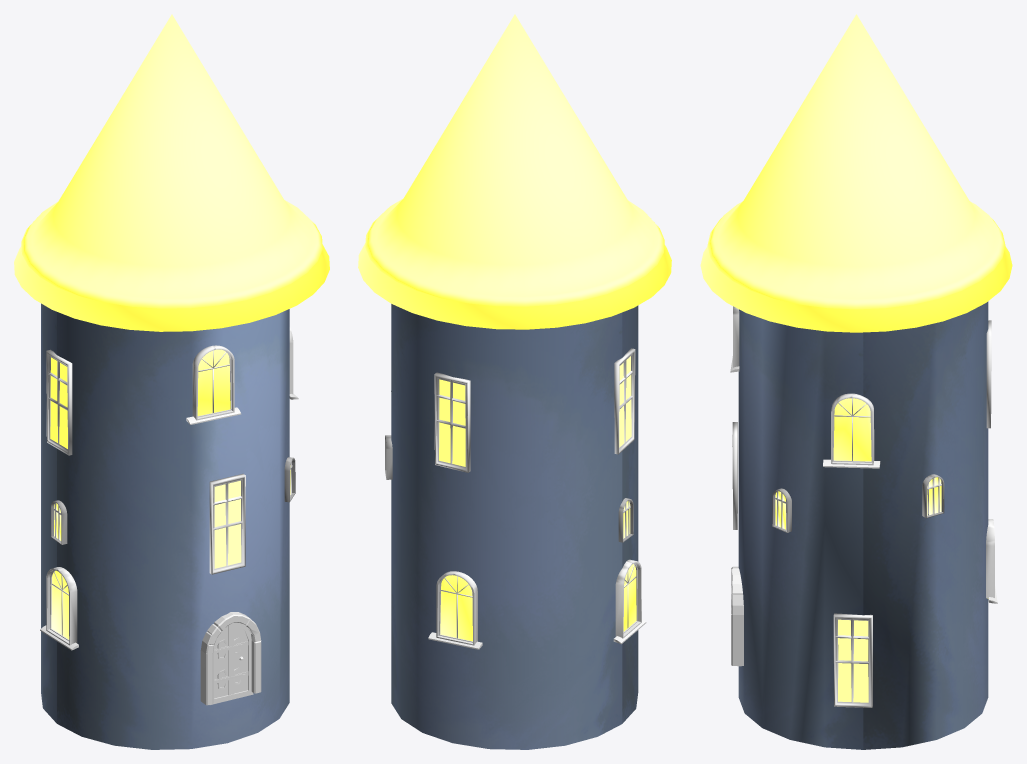
The model's file is Spiral tower opt.fbx.
3 renders of one model, left to right at view 1: azimuth 30°, elevation 25°; view 2: azimuth 150°, elevation 25°; view 3: azimuth 270°, elevation 25°, orthographic.
Parts seen in each view (by area): view 1: Meshes; view 2: Meshes; view 3: Meshes.
Part boxes in pixels (left/top/right/bottom): Meshes: left=14, top=14, right=329, bottom=749; Meshes: left=358, top=14, right=671, bottom=749; Meshes: left=700, top=14, right=1012, bottom=749.
Size of the model in its own units: 764 by 1814 by 749.
